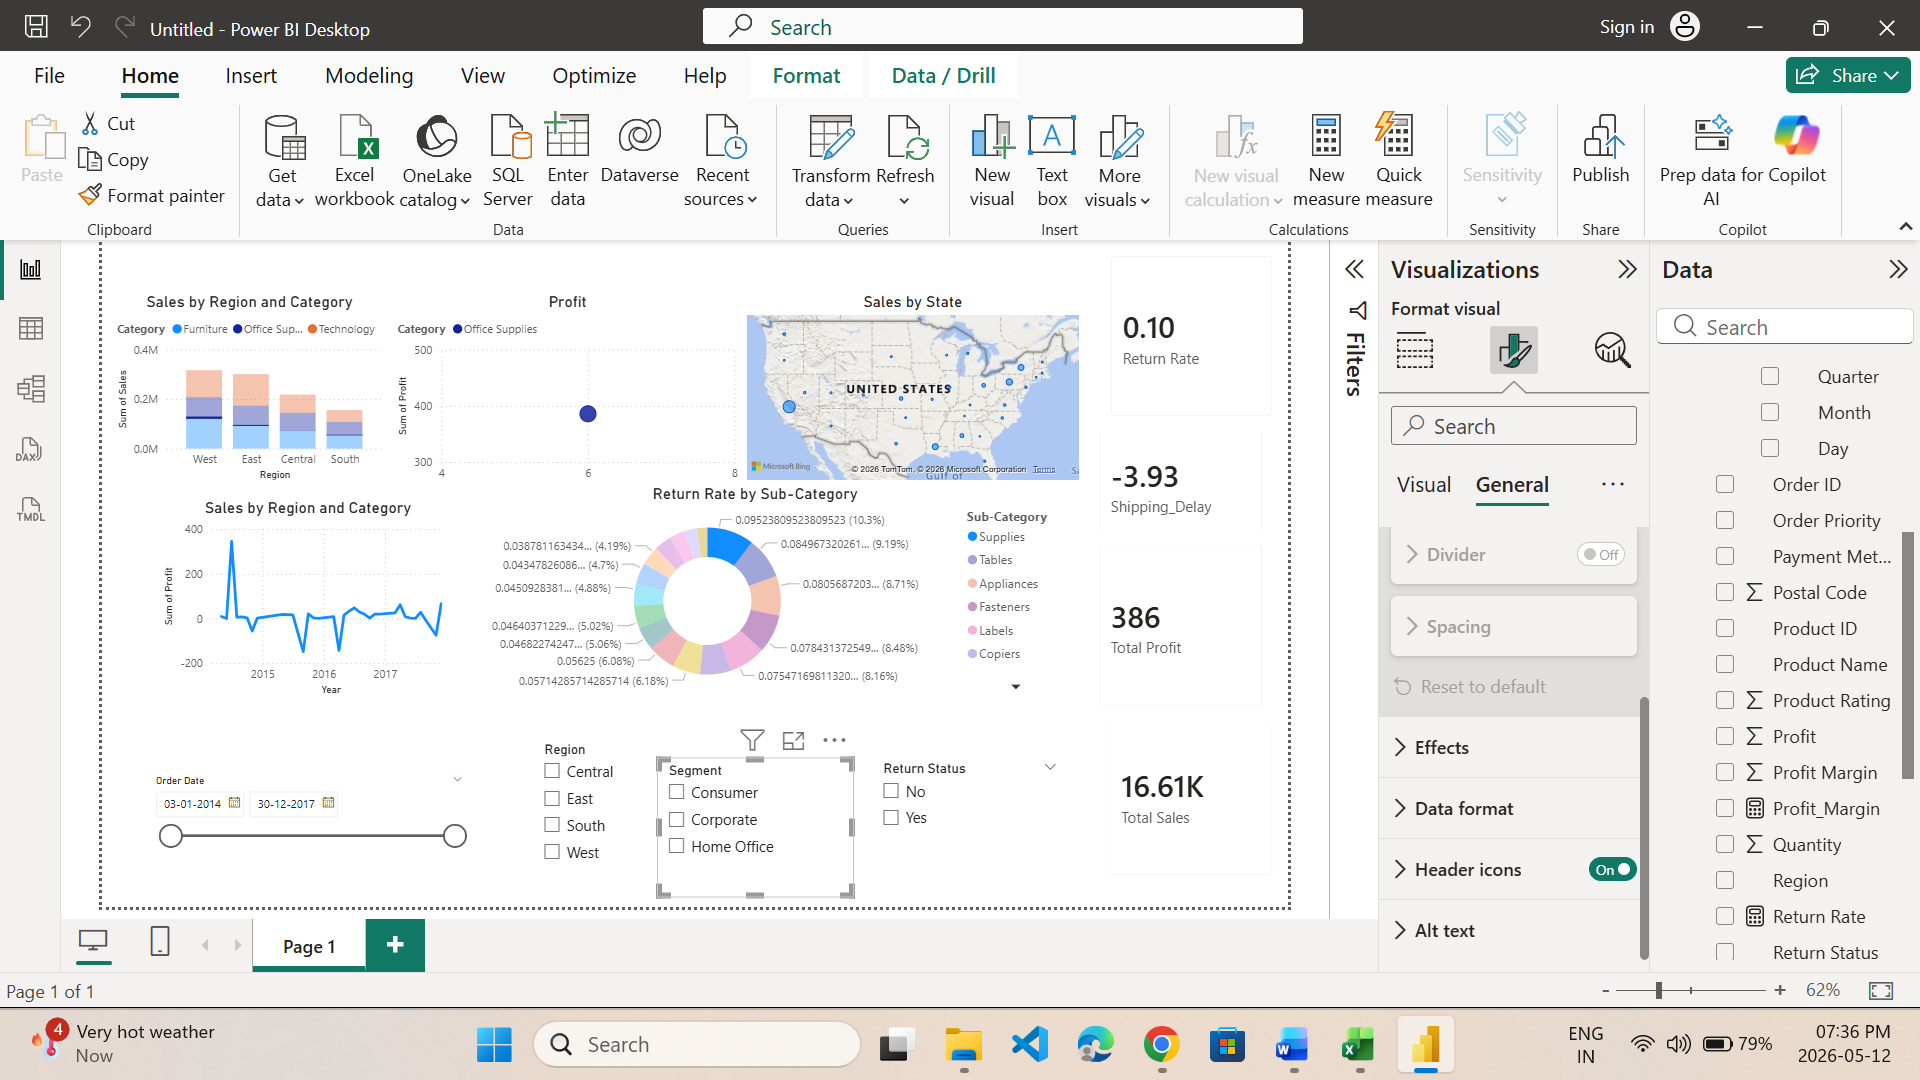

The dashboard page shown, as its layout file describes it:
{"tool":"powerbi","page":{"name":"Page 1","canvas":[1280,720],"ordinal":0},"visuals":[{"type":"lineChart","title":"Sales by Region and Category","fields":{"Category":["products1.Order Date.Variation.Date Hierarchy.Year","products1.Order Date.Variation.Date Hierarchy.Month"],"Y":["Sum(products1.Profit)"]},"box":[11.3,278.5,356.2,217],"z":1},{"type":"donutChart","fields":{"Y":["products1.Return Date"],"Category":["products1.Sub-Category"]},"box":[383.8,302.8,675.2,231.5],"z":3},{"type":"map","title":"Sales by State","fields":{"Size":["Sum(products1.Sales)"],"Category":["products1.State"]},"box":[692,57,368,207],"z":4},{"type":"slicer","fields":{"Values":["products1.Order Date"]},"box":[29.1,553.8,390.2,160.3],"z":5},{"type":"slicer","fields":{"Values":["products1.Region"]},"box":[464.7,536,134.4,184.6],"z":6},{"type":"slicer","fields":{"Values":["products1.Segment"]},"box":[599.1,558.6,212.1,150.6],"z":7},{"type":"slicer","fields":{"Values":["products1.Return Status"]},"box":[830.7,557,212.1,150.6],"z":8},{"type":"cardVisual","fields":{"Data":["products1.Total Sales"]},"box":[1068.8,512.3,209.9,208],"z":10},{"type":"cardVisual","fields":{"Data":["products1.Shipping_Delay"]},"box":[1070.7,159.8,209.9,208],"z":11},{"type":"cardVisual","fields":{"Data":["products1.Total Profit"]},"box":[1070.7,327.4,209.9,208],"z":12},{"type":"cardVisual","fields":{"Data":["products1.Return Date"]},"box":[1070.7,0,208,208],"z":13},{"type":"columnChart","title":"Sales by Category and Region","fields":{"Y":["Sum(products1.Sales)"],"Series":["products1.Region"],"Category":["products1.Category"]},"box":[28.9,57.8,296.6,208],"z":14},{"type":"scatterChart","title":"Discount vs Profit","fields":{"X":["Sum(products1.Discount)"],"Y":["Sum(products1.Profit)"],"Series":["products1.Category"],"Size":["Sum(products1.Sales)"]},"box":[353,71.2,338.4,207.3],"z":15}]}

Visuals, with their boxes on the page's 1280x720 design canvas (x1, y1, x2, y2). These are canvas units, not pixel positions in the 1920x1080 screenshot, which may show the page scaled, cropped or inside an application window:
"Sales by Region and Category" lineChart: 11,278,368,496
donutChart - products1.Return Date x products1.Sub-Category: 384,303,1059,534
"Sales by State" map: 692,57,1060,264
slicer - products1.Order Date: 29,554,419,714
slicer - products1.Region: 465,536,599,721
slicer - products1.Segment: 599,559,811,709
slicer - products1.Return Status: 831,557,1043,708
cardVisual - products1.Total Sales: 1069,512,1279,720
cardVisual - products1.Shipping_Delay: 1071,160,1281,368
cardVisual - products1.Total Profit: 1071,327,1281,535
cardVisual - products1.Return Date: 1071,0,1279,208
"Sales by Category and Region" columnChart: 29,58,326,266
"Discount vs Profit" scatterChart: 353,71,691,278
